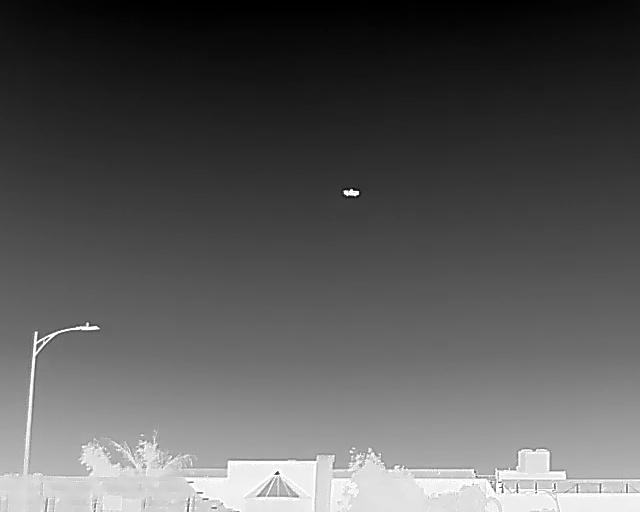fpv-drone: (342, 188, 359, 196)
